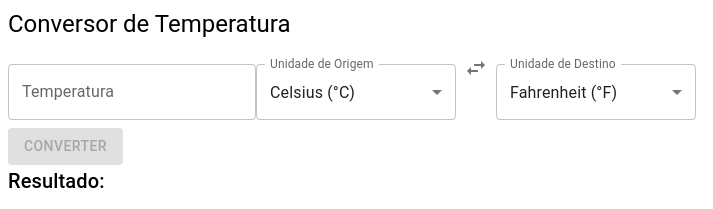
Test: ConversorTemperatura › submete pelo formulario e converte corretamente
In the number field labelled "Temperatura": (132, 92) x1=8 y1=64 x2=256 y2=120, type "0"
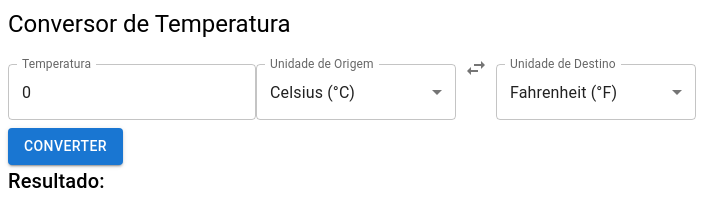
Submit the form named "converter", box x1=8 y1=48 x2=696 y2=165
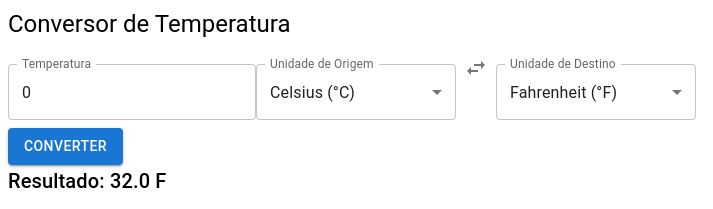
Expected: the heading "Resultado: 32.0 F" is shown, x1=8 y1=169 x2=166 y2=193
